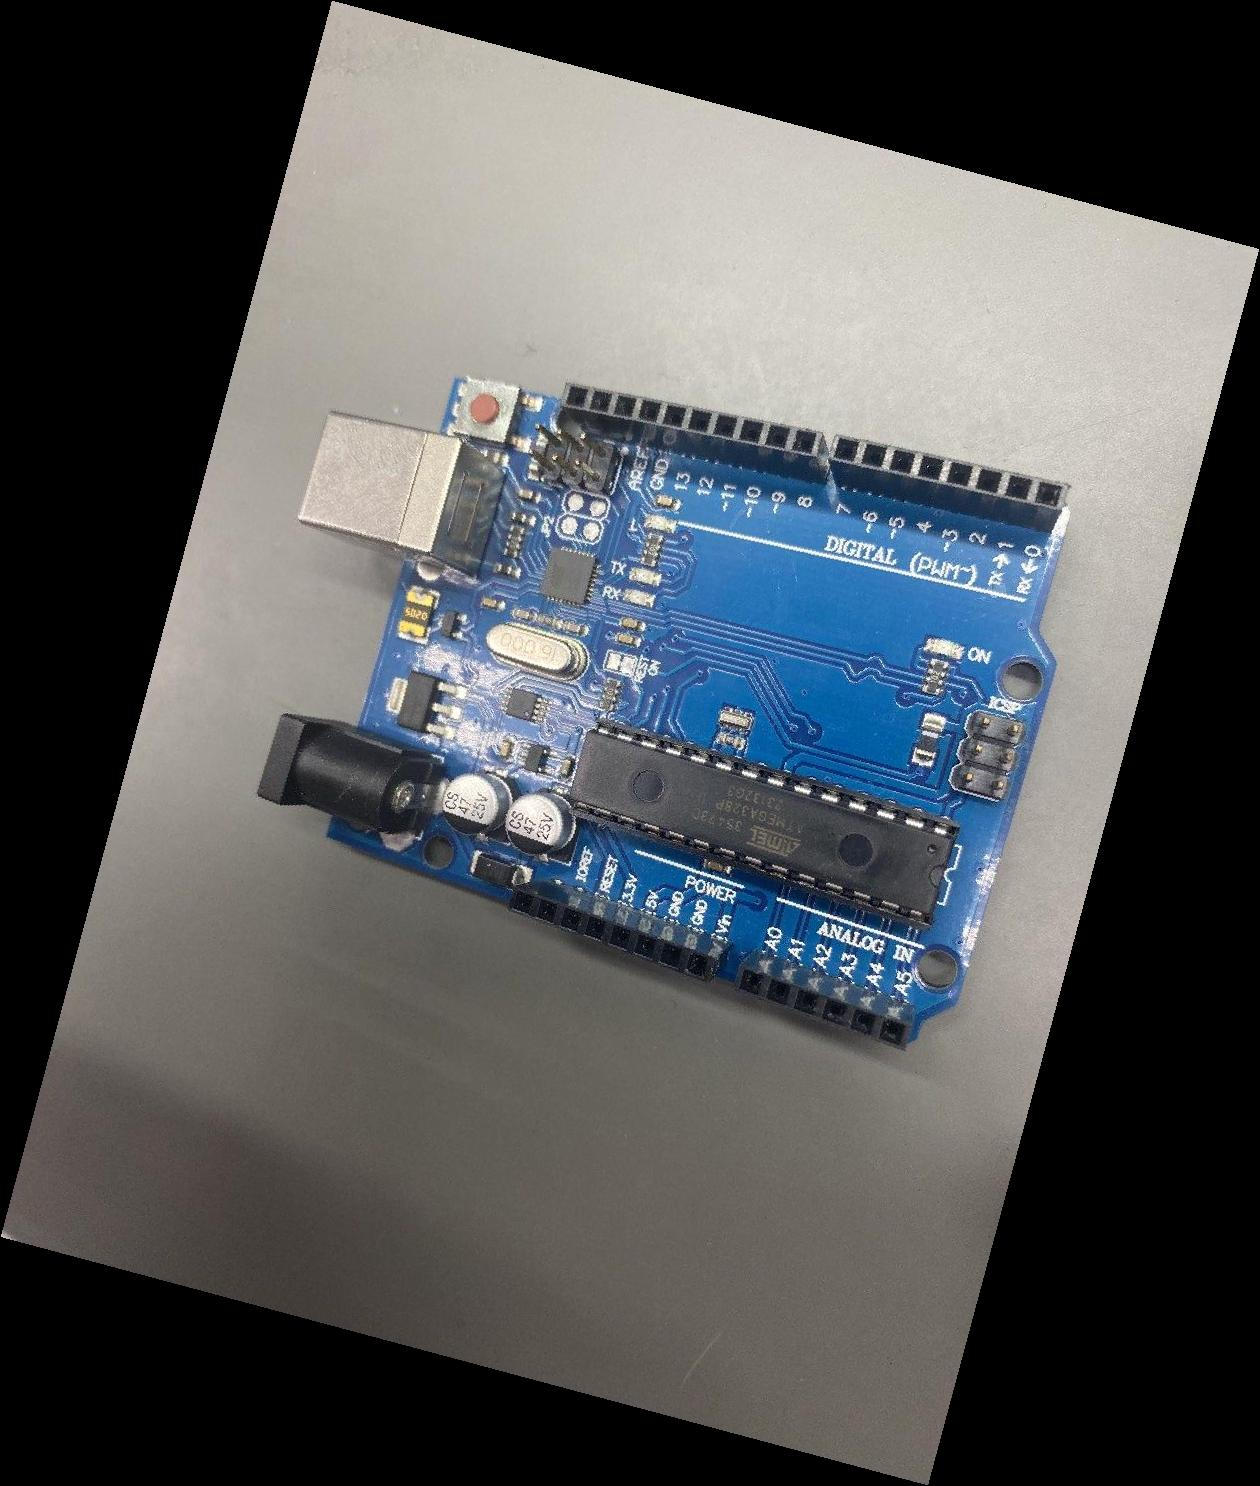ATmega328 chip: (569, 716, 961, 931)
Arduino board: (256, 376, 1071, 1051)
USB: (297, 410, 505, 579)
capacitor: (505, 787, 582, 865), (441, 769, 520, 845)
pins: (560, 381, 831, 486), (827, 432, 1070, 534), (506, 877, 734, 984), (732, 950, 915, 1051)
resistor: (765, 659, 1105, 697), (345, 524, 684, 560), (641, 532, 664, 569), (599, 677, 621, 711)
